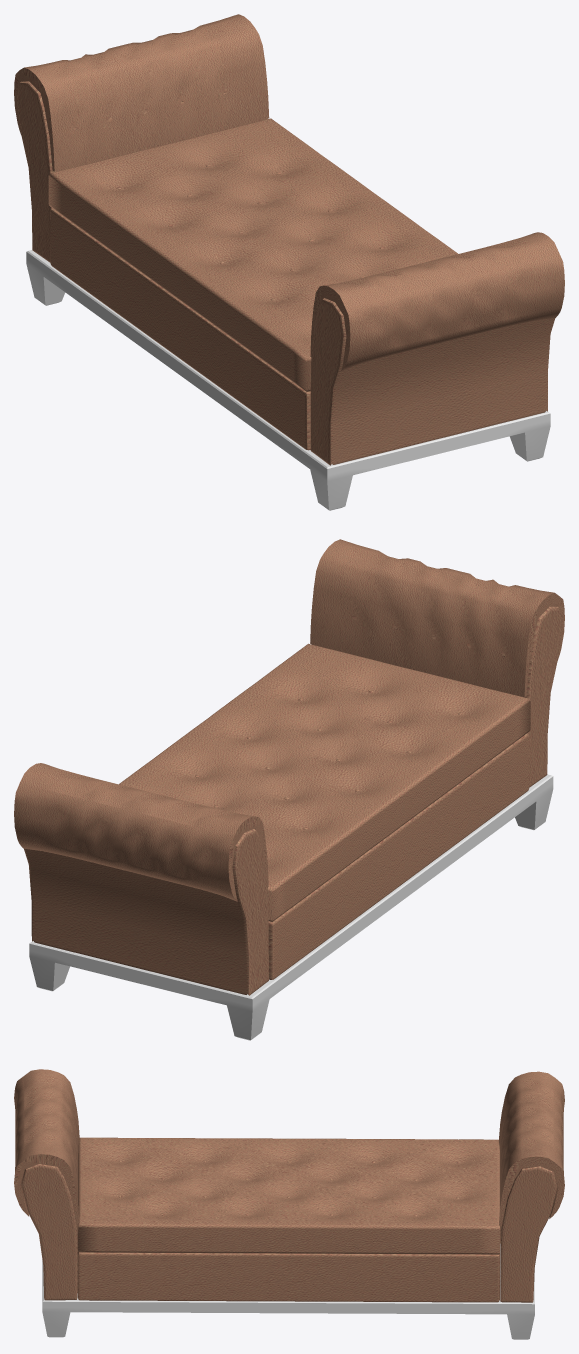
The model's file is Sofa.fbx.
The picture shows the model from 3 angles, top to bottom: view 1: azimuth 30°, elevation 25°; view 2: azimuth 150°, elevation 25°; view 3: azimuth 270°, elevation 25°; orthographic projection. The views are drawn at different scales.
Parts seen in each view (by area): view 1: Sofa:Entresofa1, Sofa:Base_sofa; view 2: Sofa:Entresofa1, Sofa:Base_sofa; view 3: Sofa:Entresofa1, Sofa:Base_sofa.
Boxes of the visible parts, bbox=[...] form: Sofa:Entresofa1: bbox=[14, 14, 564, 465]; Sofa:Base_sofa: bbox=[26, 250, 550, 510]; Sofa:Entresofa1: bbox=[14, 539, 564, 995]; Sofa:Base_sofa: bbox=[29, 774, 553, 1040]; Sofa:Entresofa1: bbox=[14, 1069, 564, 1302]; Sofa:Base_sofa: bbox=[42, 1244, 534, 1339].
Size of the model in its own units: 101 by 98.15 by 261.
Materials: 2 (1 with a texture image).
